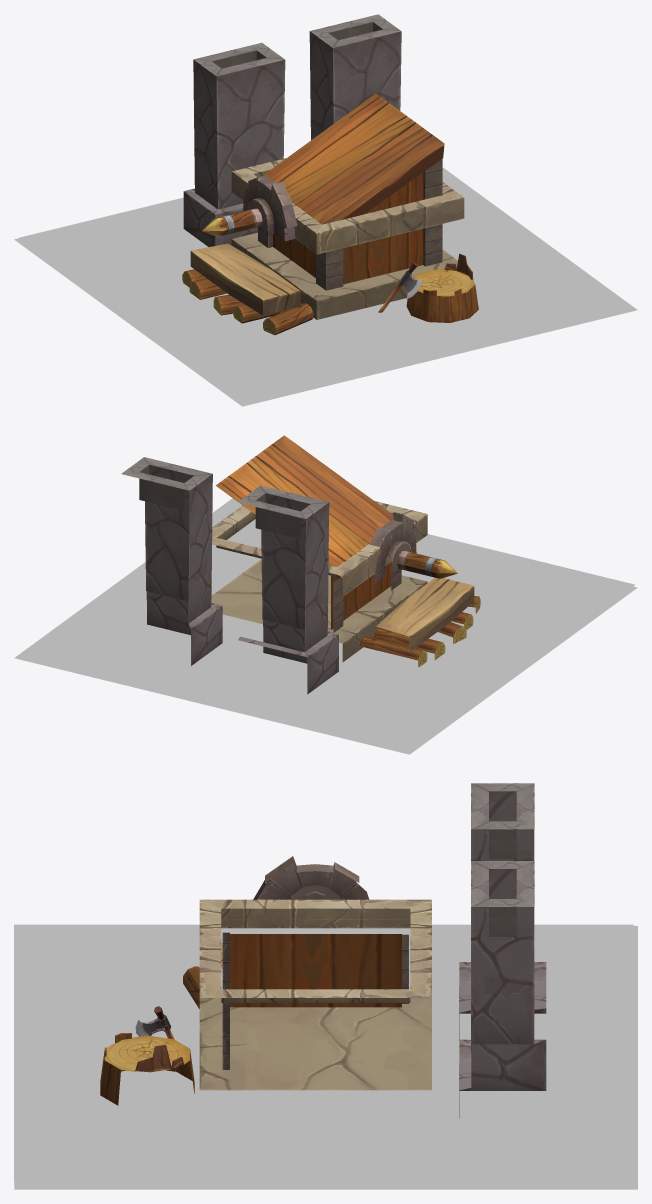
Rendered from The main city_023_LV07.FBX.
The picture shows the model from 3 angles, top to bottom: view 1: azimuth 30°, elevation 25°; view 2: azimuth 150°, elevation 25°; view 3: azimuth 270°, elevation 25°; orthographic projection. The views are drawn at different scales.
Parts seen in each view (by area): view 1: The main city_023_LV07; view 2: The main city_023_LV07; view 3: The main city_023_LV07.
Boxes of the visible parts, x1,y1,x2,y2 form: The main city_023_LV07: [14, 14, 637, 406]; The main city_023_LV07: [14, 435, 637, 754]; The main city_023_LV07: [14, 783, 637, 1189].
Bounding box in the file's own units: 59.9 × 25.67 × 59.92.
